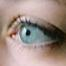eye: (19, 25, 37, 43)
